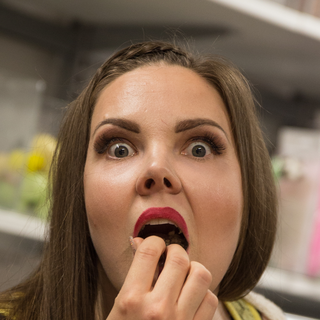eye: (93, 133, 140, 161), (174, 135, 224, 161)
